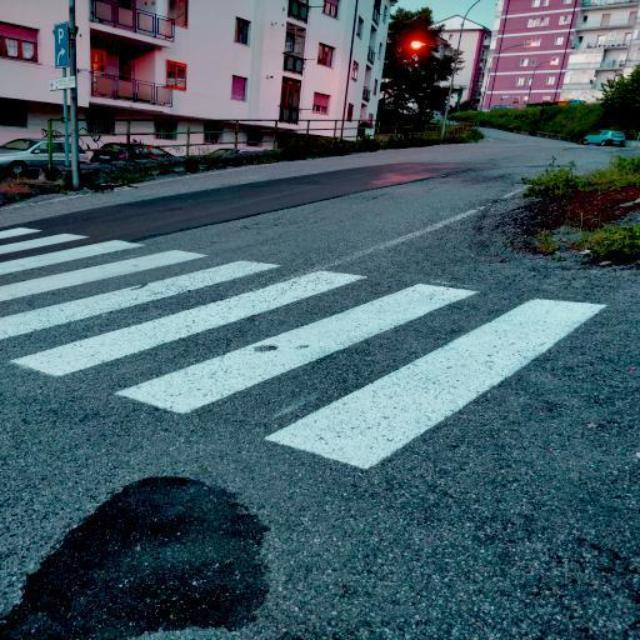sidewalk: (0, 217, 636, 576)
